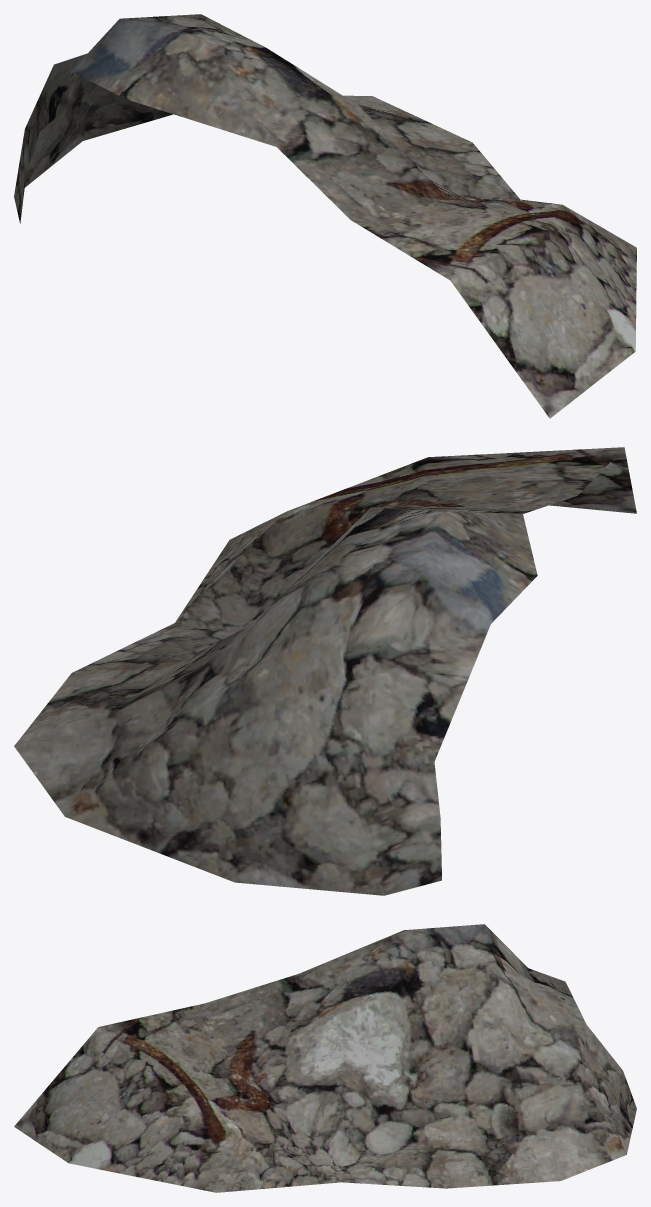
Rendered from RuinsSmallPile.fbx.
3 renders of one model, top to bottom at view 1: azimuth 30°, elevation 25°; view 2: azimuth 150°, elevation 25°; view 3: azimuth 270°, elevation 25°, orthographic. The views are drawn at different scales.
Visible parts, largest first — view 1: mesh_0.2335; view 2: mesh_0.2335; view 3: mesh_0.2335.
Boxes of the visible parts, left/top/right/bottom form: mesh_0.2335: left=14, top=14, right=636, bottom=418; mesh_0.2335: left=14, top=447, right=636, bottom=895; mesh_0.2335: left=14, top=924, right=636, bottom=1192.
Bounding box in the file's own units: 0.7219 × 0.3964 × 1.27.
